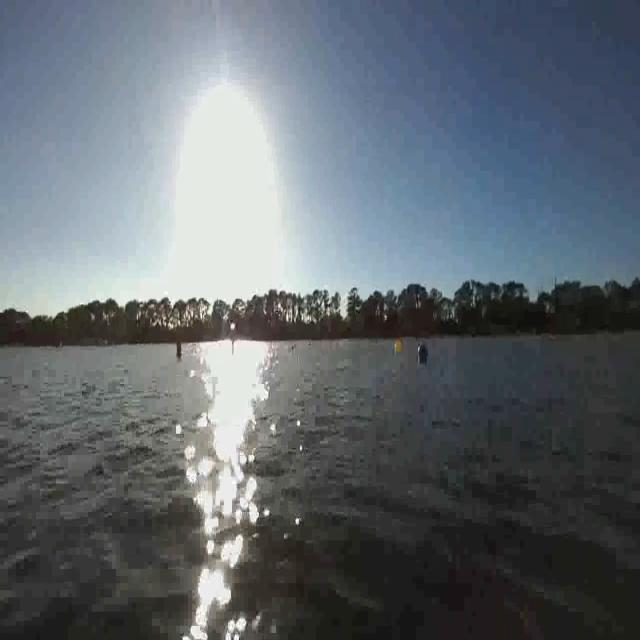black-buoy: (418, 344, 428, 363)
red-column-buoy: (174, 328, 182, 363)
yellow-buoy: (394, 340, 402, 355)
